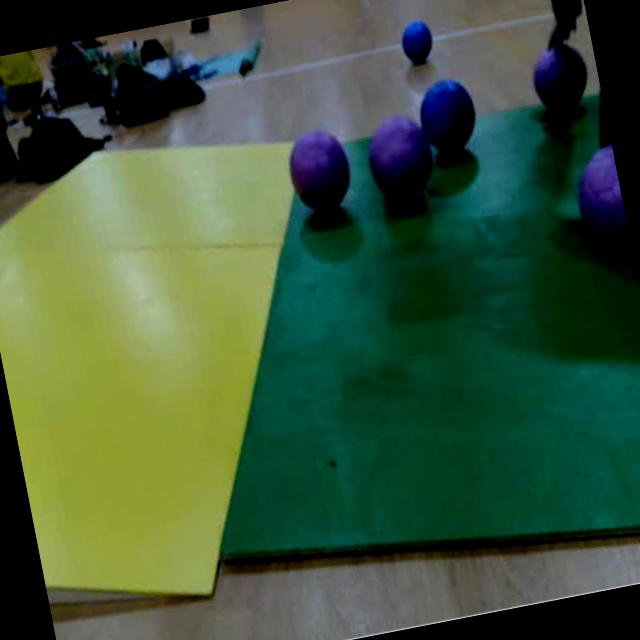blue_ball: (418, 75, 485, 162), (399, 17, 438, 68)
purple_ball: (362, 108, 443, 212), (572, 145, 636, 274), (282, 124, 358, 221), (525, 40, 598, 124)
